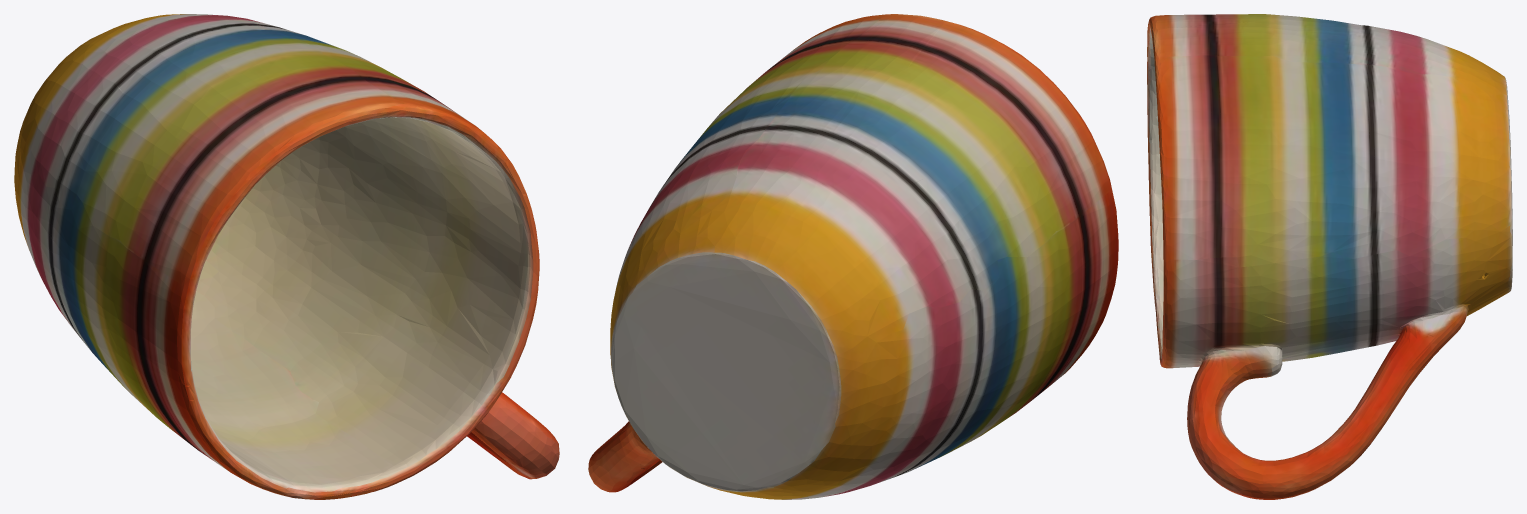
The picture shows the model from 3 angles, left to right: view 1: azimuth 30°, elevation 25°; view 2: azimuth 150°, elevation 25°; view 3: azimuth 270°, elevation 25°; orthographic projection. The views are drawn at different scales.
Parts seen in each view (by area): view 1: geometry_0; view 2: geometry_0; view 3: geometry_0.
Boxes of the visible parts, <box> form: geometry_0: <box>14,14,559,499</box>; geometry_0: <box>588,14,1118,499</box>; geometry_0: <box>1147,14,1512,499</box>.
Bounding box in the file's own units: 0.0902 × 0.0913 × 0.0809.
Materials: 1 (1 with a texture image).
